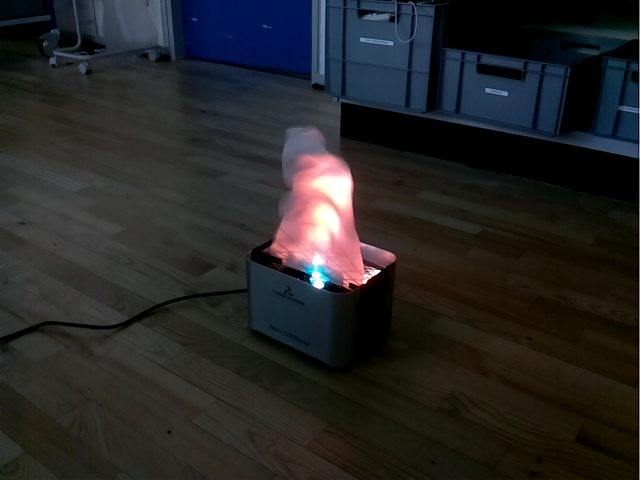fire: (268, 124, 364, 290)
